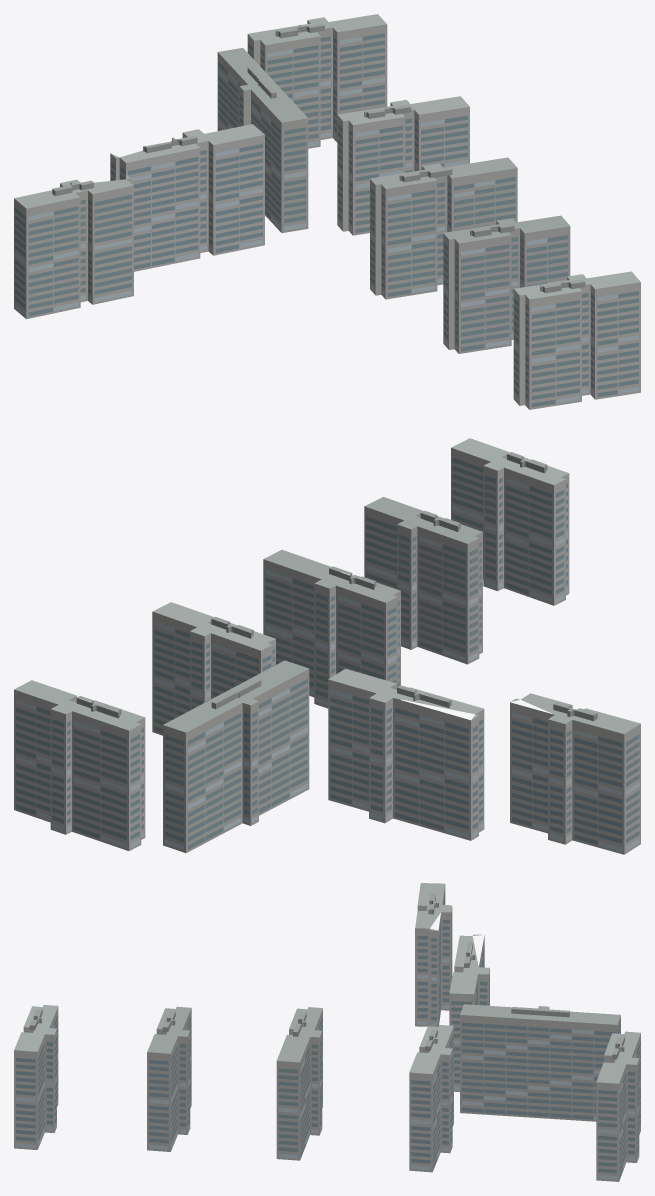
The model's file is apt-a13985106.glb.
3 views of the same model, one above another, from view 1: azimuth 30°, elevation 25°; view 2: azimuth 150°, elevation 25°; view 3: azimuth 270°, elevation 25° (orthographic). The views are drawn at different scales.
Visible parts, largest first — view 1: apt-a13985106; view 2: apt-a13985106; view 3: apt-a13985106.
Boxes of the visible parts, x1,y1,x2,y2 form: apt-a13985106: [14, 14, 640, 409]; apt-a13985106: [14, 438, 640, 854]; apt-a13985106: [14, 883, 640, 1181].
Bounding box in the file's own units: 193 × 46 × 254.
